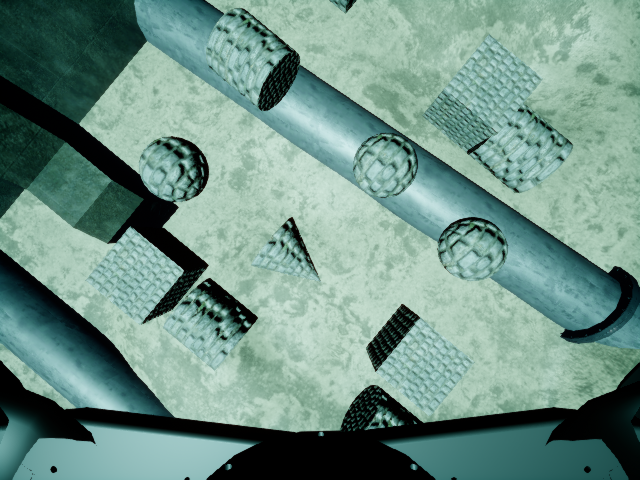box: (65, 215, 211, 328), (413, 28, 544, 152), (357, 296, 480, 420)
cone: (247, 211, 324, 293)
cylinder: (199, 6, 302, 115), (160, 276, 262, 377), (461, 111, 575, 195)
sphere: (125, 128, 220, 209), (429, 199, 510, 286), (346, 129, 419, 205)
